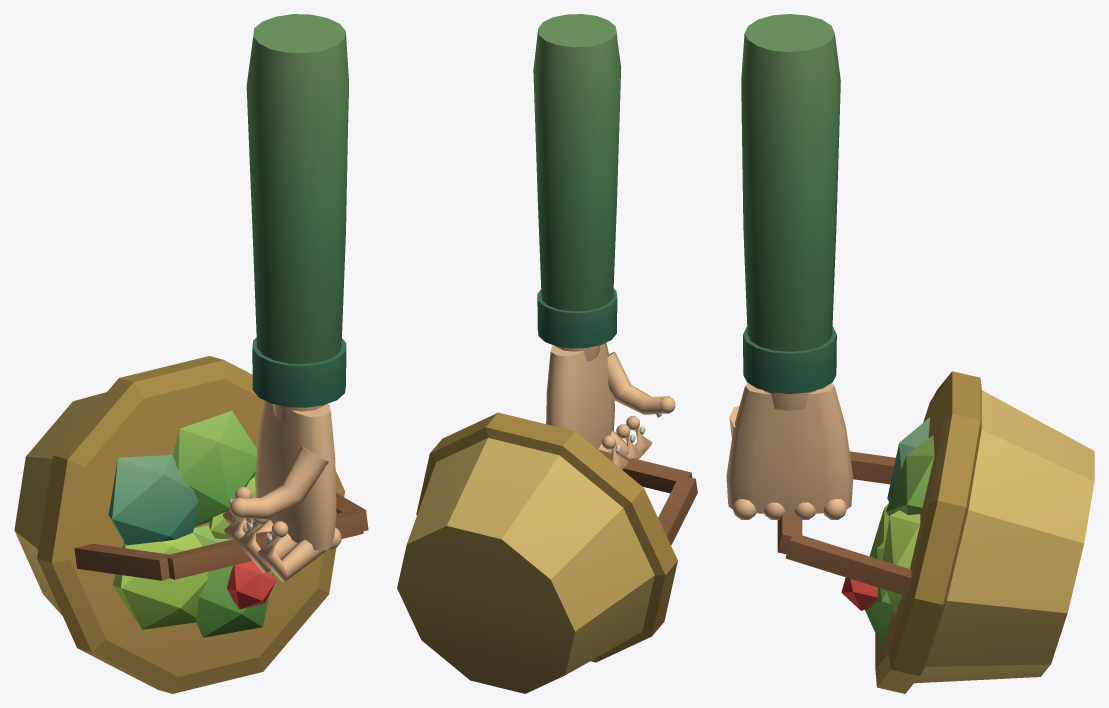
File: merchant_selma_fore_l.glb
3 views of the same model, side by side, from view 1: azimuth 30°, elevation 25°; view 2: azimuth 150°, elevation 25°; view 3: azimuth 270°, elevation 25° (orthographic). The views are drawn at different scales.
Parts seen in each view (by area): view 1: merchant_selma_fore_l; view 2: merchant_selma_fore_l; view 3: merchant_selma_fore_l.
Part boxes in pixels (x1,y1,x2,y2): merchant_selma_fore_l: (14, 14, 368, 693); merchant_selma_fore_l: (397, 14, 697, 693); merchant_selma_fore_l: (726, 14, 1094, 693).
Bounding box in the file's own units: 0.7741 × 1.71 × 0.871.
1 material, 1 textured.
